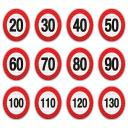speed_limit_100: (2, 84, 32, 124)
speed_limit_110: (34, 84, 64, 124)
speed_limit_120: (65, 84, 95, 123)
speed_limit_20: (1, 3, 32, 44)
speed_limit_30: (33, 3, 64, 44)
speed_limit_40: (66, 4, 95, 44)
speed_limit_50: (98, 6, 126, 46)
speed_limit_60: (2, 45, 32, 84)
speed_limit_70: (34, 45, 64, 85)
speed_limit_80: (66, 46, 96, 84)
speed_limit_90: (97, 46, 128, 85)
